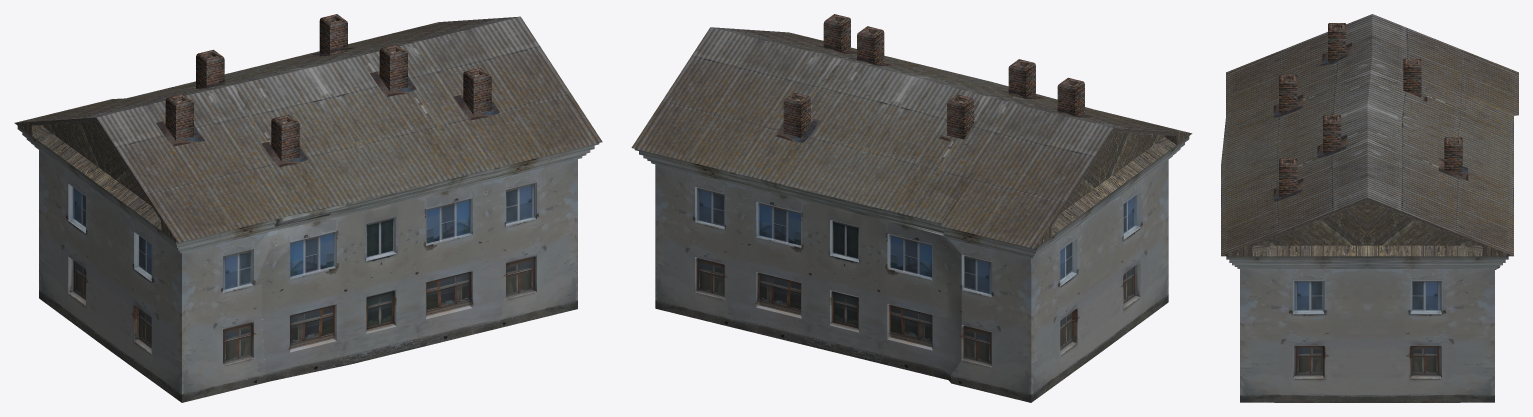
The model's file is House_03_test.fbx.
3 renders of one model, left to right at view 1: azimuth 30°, elevation 25°; view 2: azimuth 150°, elevation 25°; view 3: azimuth 270°, elevation 25°, orthographic. The views are drawn at different scales.
Visible parts, largest first — view 1: Дом2.005, Дом2.003, Дом2.002, Дом2.014, Дом2.004, Дом2.010, Дом2.016, Дом2.015, Дом2.001, Дом2.006, Дом2.009, Дом2.013 (+1 smaller); view 2: Дом2.008, Дом2.011, Дом2.009, Дом2.006, Дом2.007, Дом2.004, Дом2.013, Дом2.012, Дом2.005, Дом2.010, Дом2.014, Дом2.002; view 3: Дом2.002, Дом2.003, Дом2.008, Дом2.014, Дом2.009, Дом2.010, Дом2.013, Дом2.005, Дом2.007, Дом2.012, Дом2.015, Дом2.004.
Part boxes in pixels (x1=…): Дом2.005: x1=104, y1=94, x2=279, y2=402; Дом2.003: x1=411, y1=176, x2=577, y2=349; Дом2.002: x1=392, y1=17, x2=602, y2=197; Дом2.014: x1=155, y1=64, x2=357, y2=285; Дом2.004: x1=36, y1=101, x2=165, y2=389; Дом2.010: x1=278, y1=30, x2=497, y2=159; Дом2.016: x1=254, y1=227, x2=355, y2=381; Дом2.015: x1=311, y1=74, x2=426, y2=255; Дом2.001: x1=332, y1=234, x2=426, y2=368; Дом2.006: x1=39, y1=149, x2=121, y2=358; Дом2.009: x1=269, y1=14, x2=520, y2=63; Дом2.013: x1=141, y1=49, x2=313, y2=97; Дом2.008: x1=631, y1=82, x2=790, y2=341; Дом2.011: x1=780, y1=209, x2=961, y2=382; Дом2.009: x1=674, y1=27, x2=826, y2=318; Дом2.006: x1=951, y1=246, x2=1111, y2=402; Дом2.007: x1=940, y1=106, x2=1076, y2=267; Дом2.004: x1=1028, y1=106, x2=1151, y2=344; Дом2.013: x1=814, y1=91, x2=993, y2=211; Дом2.012: x1=795, y1=169, x2=964, y2=298; Дом2.005: x1=1031, y1=77, x2=1192, y2=314; Дом2.010: x1=761, y1=26, x2=937, y2=168; Дом2.014: x1=880, y1=59, x2=1092, y2=159; Дом2.002: x1=712, y1=14, x2=988, y2=81; Дом2.002: x1=1221, y1=158, x2=1508, y2=345; Дом2.003: x1=1240, y1=297, x2=1411, y2=402; Дом2.008: x1=1368, y1=220, x2=1513, y2=402; Дом2.014: x1=1223, y1=54, x2=1438, y2=147; Дом2.009: x1=1342, y1=137, x2=1513, y2=224; Дом2.010: x1=1249, y1=112, x2=1488, y2=191; Дом2.013: x1=1385, y1=58, x2=1501, y2=169; Дом2.005: x1=1226, y1=20, x2=1362, y2=116; Дом2.007: x1=1367, y1=40, x2=1518, y2=114; Дом2.012: x1=1474, y1=104, x2=1518, y2=181; Дом2.015: x1=1221, y1=118, x2=1354, y2=170; Дом2.004: x1=1357, y1=14, x2=1440, y2=57.
Bounding box in the file's own units: 34.5 × 19.84 × 23.63.
Materials: 1 (1 with a texture image).
